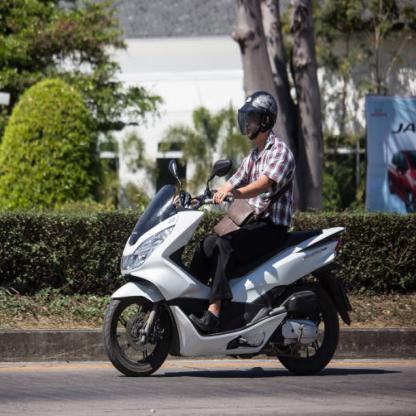Motorcycle: (103, 154, 346, 381)
